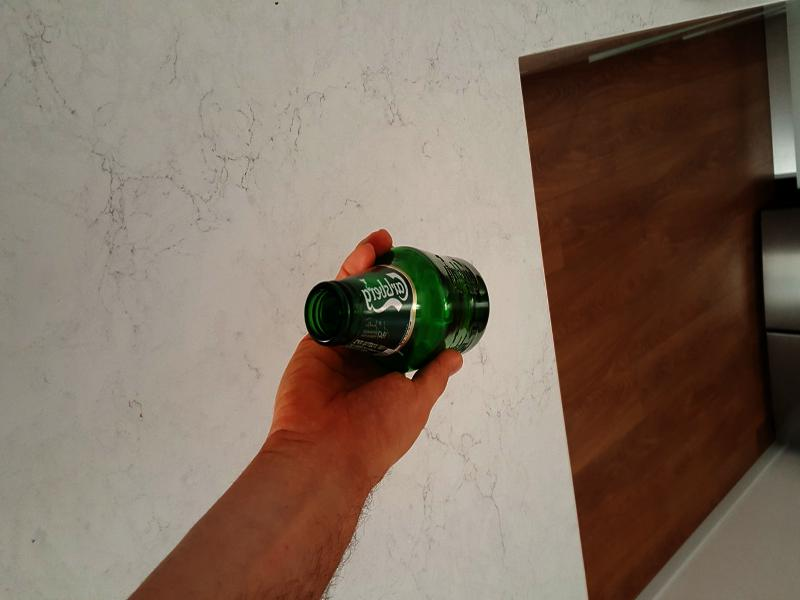Beer: (304, 248, 490, 370)
